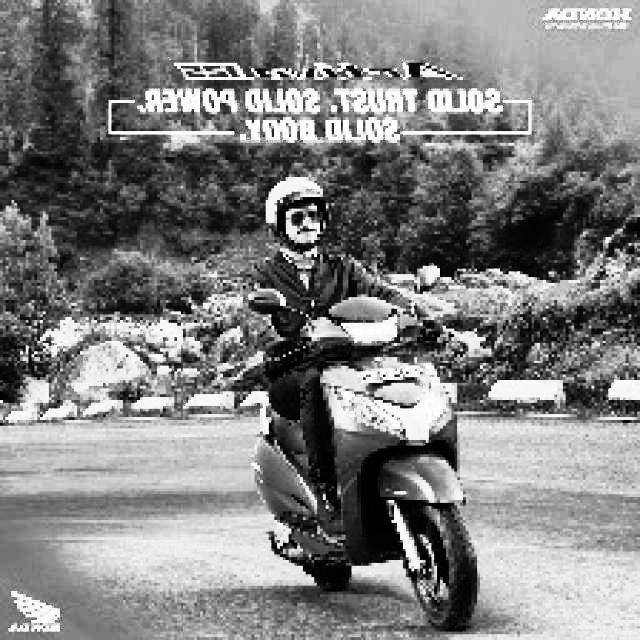Bike: (252, 302, 484, 626)
